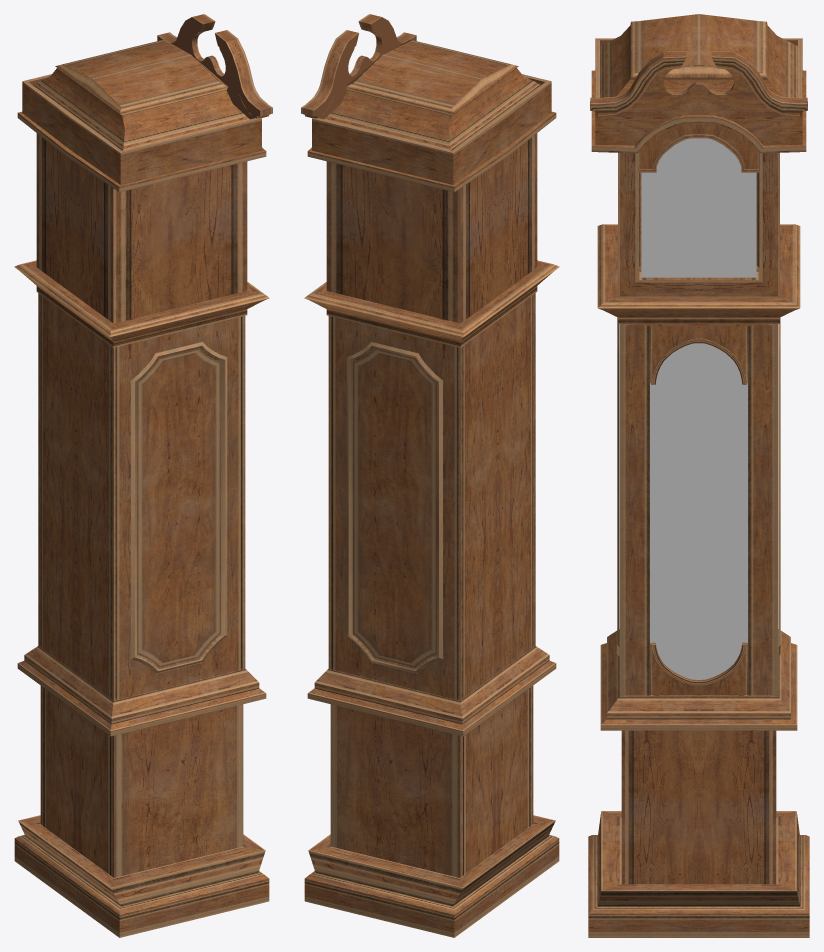
Rendered from Clock_01.fbx.
3 renders of one model, left to right at view 1: azimuth 30°, elevation 25°; view 2: azimuth 150°, elevation 25°; view 3: azimuth 270°, elevation 25°, orthographic. The views are drawn at different scales.
Parts seen in each view (by area): view 1: clock; view 2: clock; view 3: clock.
Boxes of the visible parts, x1,y1,x2,y2 form: clock: [14, 14, 272, 937]; clock: [301, 14, 559, 937]; clock: [588, 14, 809, 937].
Size of the model in its own units: 61.22 by 306 by 69.63.
4 materials, 3 textured.
